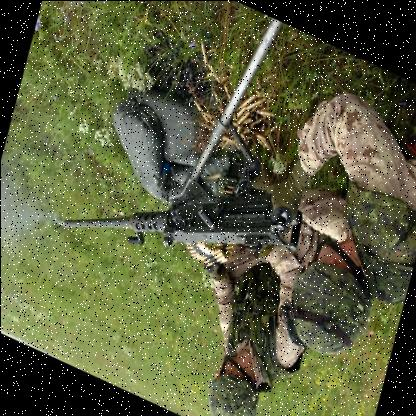rifle: (50, 101, 306, 326)
